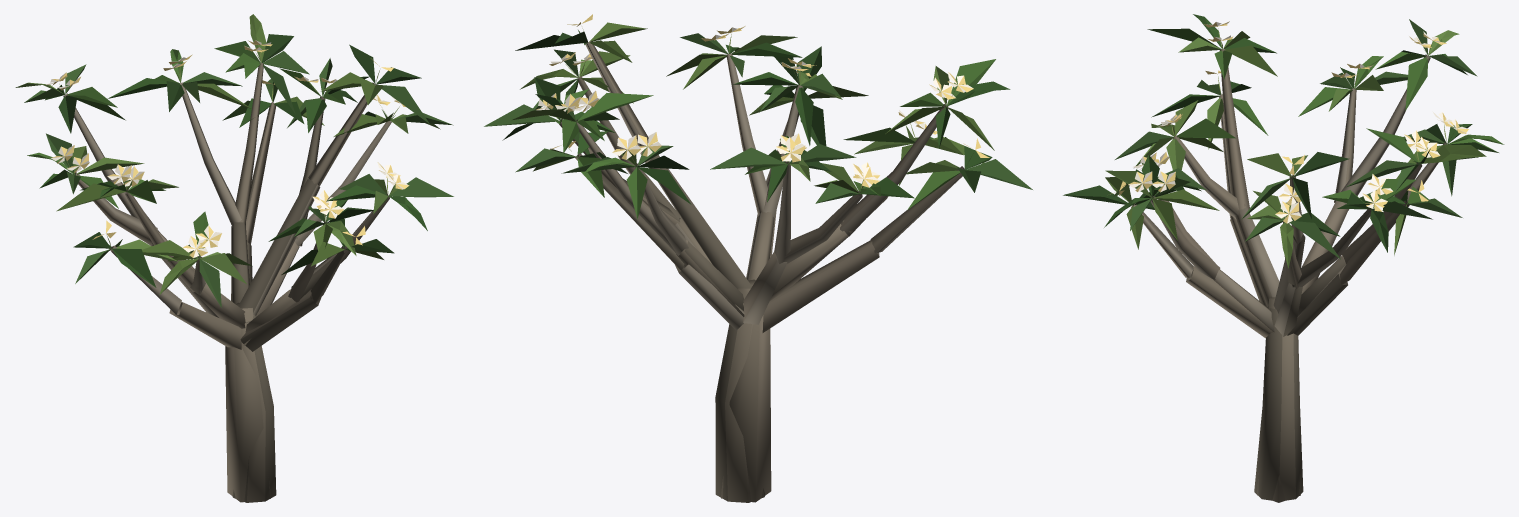
Rendered from sg-frangipani.glb.
The picture shows the model from 3 angles, left to right: view 1: azimuth 30°, elevation 25°; view 2: azimuth 150°, elevation 25°; view 3: azimuth 270°, elevation 25°; orthographic projection. The views are drawn at different scales.
Parts seen in each view (by area): view 1: lod0_foliage, lod0_branches, lod1_branches, lod1_foliage, lod1_trunk, lod0_blossoms, lod0_trunk; view 2: lod0_foliage, lod0_branches, lod1_branches, lod1_foliage, lod1_trunk, lod0_trunk, lod0_blossoms; view 3: lod0_foliage, lod0_branches, lod0_trunk, lod1_branches, lod1_foliage, lod0_blossoms.
Part boxes in pixels (x1,y1,x2,y2): lod0_foliage: (15,14,453,307); lod0_branches: (63,63,391,345); lod1_branches: (109,82,375,351); lod1_foliage: (73,44,429,287); lod1_trunk: (225,302,270,502); lod0_blossoms: (45,40,409,257); lod0_trunk: (232,314,276,502); lod0_foliage: (484,33,1010,219); lod0_branches: (559,53,948,324); lod1_branches: (575,40,964,332); lod1_foliage: (515,22,1032,210); lod1_trunk: (721,279,771,502); lod0_trunk: (715,303,765,502); lod0_blossoms: (536,26,973,188); lod0_foliage: (1104,14,1504,268); lod0_branches: (1150,49,1446,336); lod0_trunk: (1254,306,1303,500); lod1_branches: (1131,94,1409,338); lod1_foliage: (1063,80,1462,255); lod0_blossoms: (1128,21,1468,223).
Bounding box in the file's own units: 4.58 × 4.2 × 4.19.
